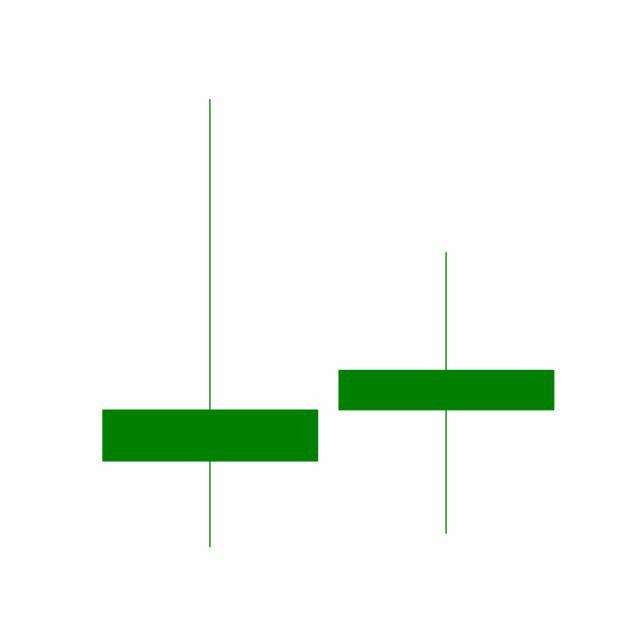Spinning Top: (328, 249, 566, 538)
